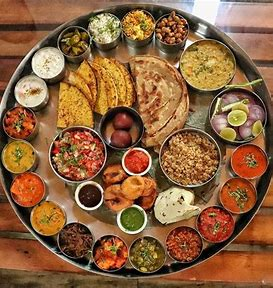inorganic: (133, 57, 188, 135), (64, 56, 125, 123), (152, 186, 198, 230), (171, 136, 215, 173), (103, 169, 155, 197), (186, 45, 225, 81), (216, 96, 256, 129), (59, 140, 92, 168), (109, 113, 132, 143), (202, 214, 230, 235), (227, 184, 248, 211), (170, 234, 198, 254), (133, 246, 162, 265), (98, 243, 123, 265), (94, 18, 117, 41), (238, 149, 260, 173), (124, 16, 148, 36), (62, 232, 88, 250), (14, 180, 37, 199), (37, 207, 60, 226), (62, 31, 85, 49), (6, 146, 27, 165), (37, 52, 59, 70), (22, 83, 41, 103), (129, 151, 148, 171), (123, 213, 145, 230), (11, 114, 30, 133), (163, 20, 181, 40), (83, 188, 99, 205)
organic: (4, 9, 269, 273), (161, 120, 226, 191), (46, 121, 115, 181), (206, 87, 266, 142), (179, 41, 242, 92), (99, 101, 154, 151), (226, 141, 273, 178), (193, 204, 238, 241), (83, 7, 126, 45), (220, 173, 256, 216), (30, 195, 71, 231), (111, 203, 153, 237), (8, 106, 45, 143), (28, 45, 70, 77), (154, 13, 189, 51), (58, 219, 97, 252), (73, 181, 110, 215), (118, 143, 156, 176), (166, 224, 205, 256), (11, 173, 49, 203), (132, 238, 165, 272), (122, 12, 155, 46), (91, 237, 128, 266), (60, 24, 91, 58), (18, 74, 53, 102), (5, 141, 41, 167)
